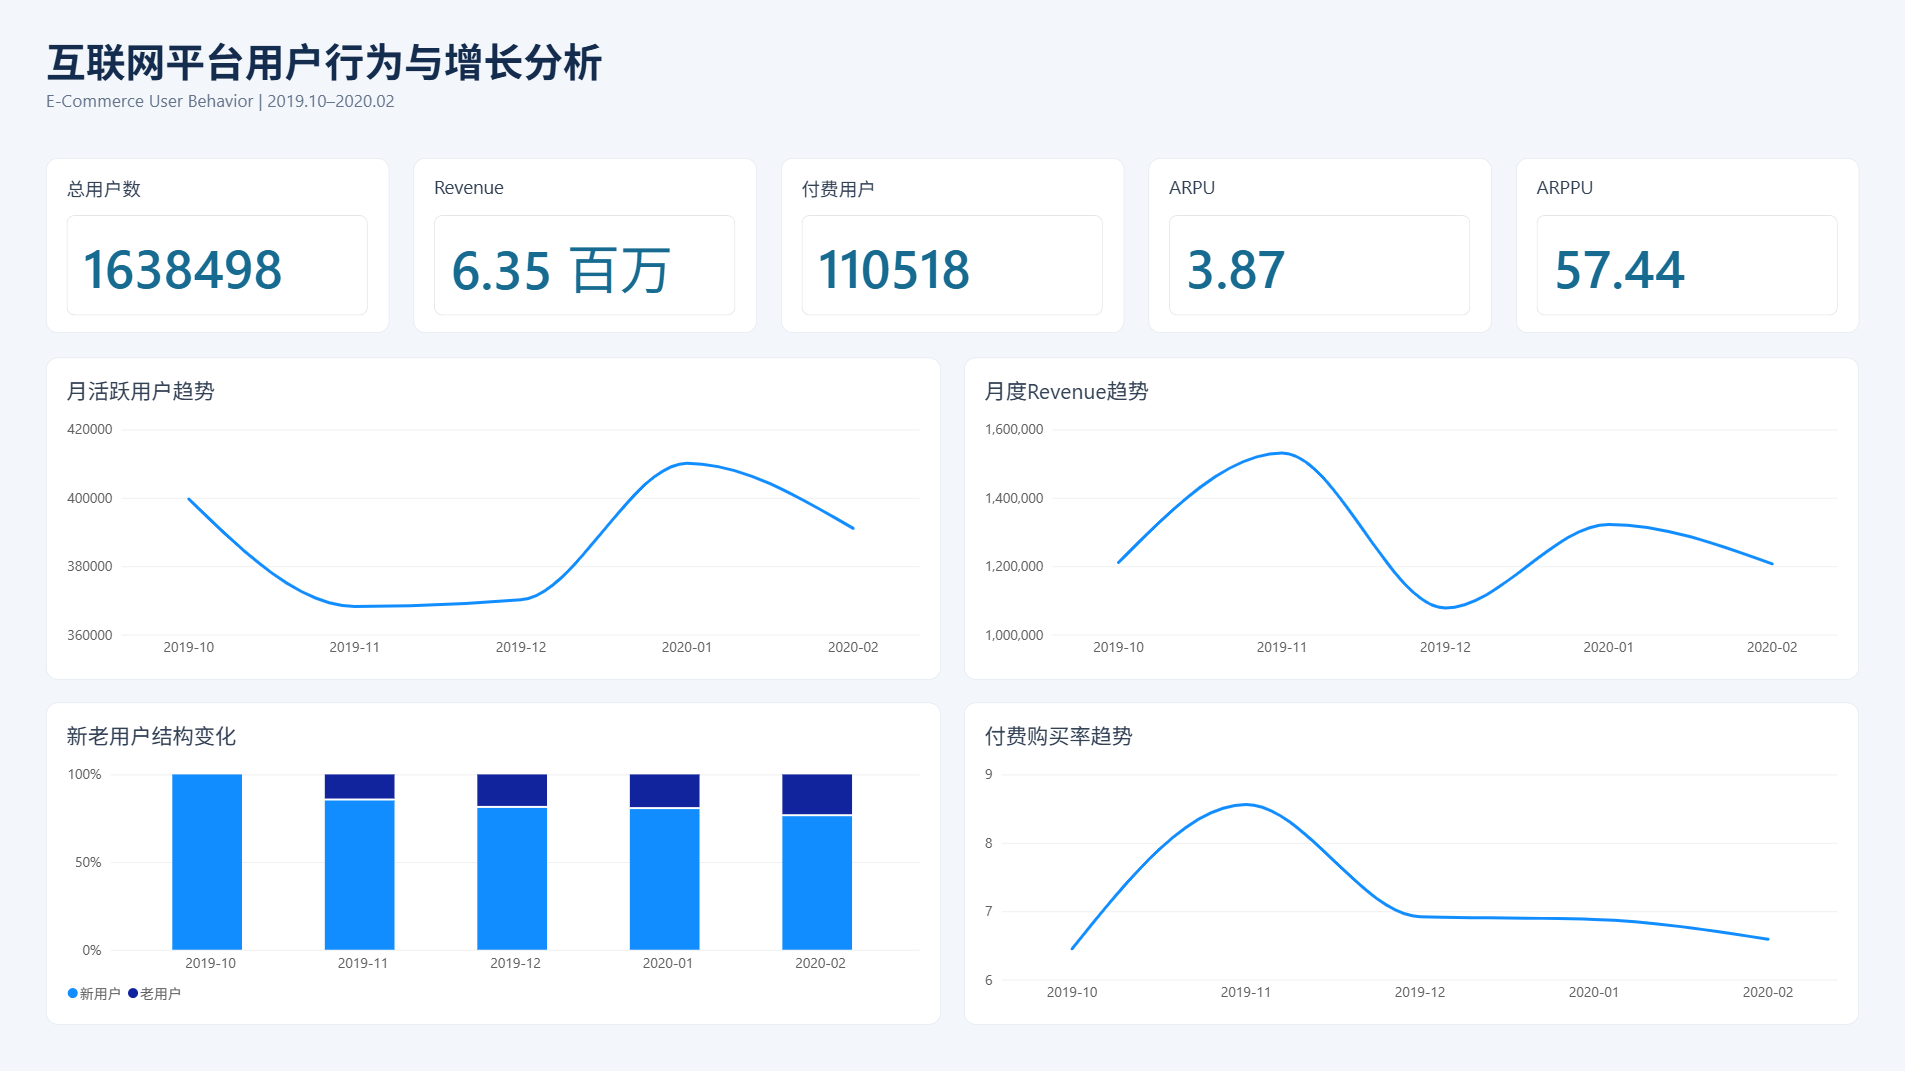

This screenshot's page, from the dashboard's own definition file:
{"tool":"powerbi","page":{"name":"01 经营概览","canvas":[1920,1080],"ordinal":0},"visuals":[{"type":"cardVisual","title":"总用户数","fields":{"Data":["Sum(overall_kpi.total_users)"]},"box":[48,160,345.6,176],"z":0},{"type":"cardVisual","title":"Revenue","fields":{"Data":["Sum(overall_kpi.revenue)"]},"box":[417.6,160,345.6,176],"z":1000},{"type":"cardVisual","title":"付费用户","fields":{"Data":["Sum(overall_kpi.paid_users)"]},"box":[787.2,160,345.6,176],"z":2000},{"type":"cardVisual","title":"ARPU","fields":{"Data":["Sum(overall_kpi.arpu)"]},"box":[1156.8,160,345.6,176],"z":3000},{"type":"cardVisual","title":"ARPPU","fields":{"Data":["Sum(overall_kpi.arppu)"]},"box":[1526.4,160,345.6,176],"z":4000},{"type":"lineChart","title":"月活跃用户趋势","fields":{"Category":["monthly_kpi.event_month"],"Y":["Sum(monthly_kpi.mau)"]},"box":[48,360,900,324],"z":5000},{"type":"lineChart","title":"月度Revenue趋势","fields":{"Category":["monthly_kpi.event_month"],"Y":["Sum(monthly_kpi.revenue)"]},"box":[972,360,900,324],"z":6000},{"type":"hundredPercentStackedColumnChart","title":"新老用户结构变化 ","fields":{"Category":["monthly_kpi.event_month"],"Y":["Sum(monthly_kpi.new_users)","Sum(monthly_kpi.old_users)"]},"box":[48,708,900,324],"z":7000},{"type":"lineChart","title":"付费购买率趋势","fields":{"Category":["monthly_kpi.event_month"],"Y":["Sum(monthly_kpi.paid_purchase_rate)"]},"box":[972,708,900,324],"z":8000},{"type":"textbox","box":[48,32,1824,104],"z":10000}]}

Visuals, with their boxes in screenshot pixels (x1, y1, x2, y2), scaled from the page's 1920x1080 canvas onto the 1905x1071 screenshot:
"总用户数" cardVisual: {"left": 48, "top": 159, "right": 391, "bottom": 333}
"Revenue" cardVisual: {"left": 414, "top": 159, "right": 757, "bottom": 333}
"付费用户" cardVisual: {"left": 781, "top": 159, "right": 1124, "bottom": 333}
"ARPU" cardVisual: {"left": 1148, "top": 159, "right": 1491, "bottom": 333}
"ARPPU" cardVisual: {"left": 1514, "top": 159, "right": 1857, "bottom": 333}
"月活跃用户趋势" lineChart: {"left": 48, "top": 357, "right": 941, "bottom": 678}
"月度Revenue趋势" lineChart: {"left": 964, "top": 357, "right": 1857, "bottom": 678}
"新老用户结构变化 " hundredPercentStackedColumnChart: {"left": 48, "top": 702, "right": 941, "bottom": 1023}
"付费购买率趋势" lineChart: {"left": 964, "top": 702, "right": 1857, "bottom": 1023}
textbox: {"left": 48, "top": 32, "right": 1857, "bottom": 135}
